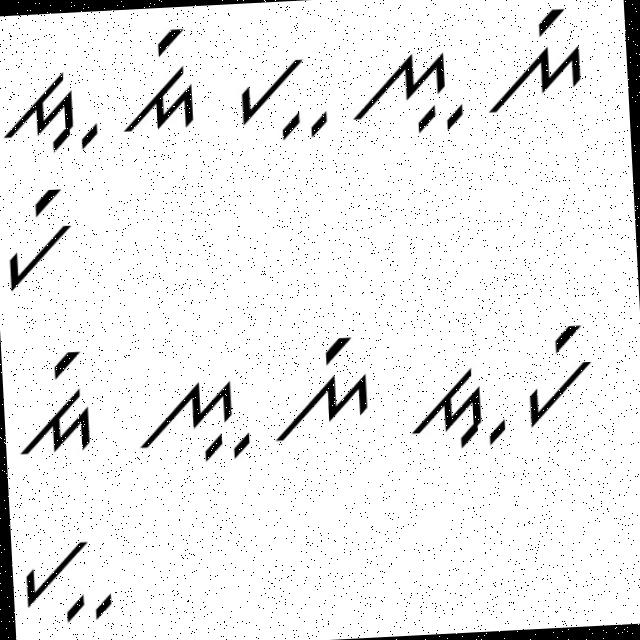dah: (396, 348, 510, 455), (0, 53, 105, 165)
dang: (114, 19, 212, 141), (12, 348, 106, 462)
nah: (348, 38, 470, 149), (129, 364, 254, 471)
nang: (486, 3, 590, 118), (270, 331, 375, 443)
pah: (15, 524, 124, 632), (224, 44, 334, 146)
pang: (519, 319, 608, 429), (2, 184, 85, 300)
